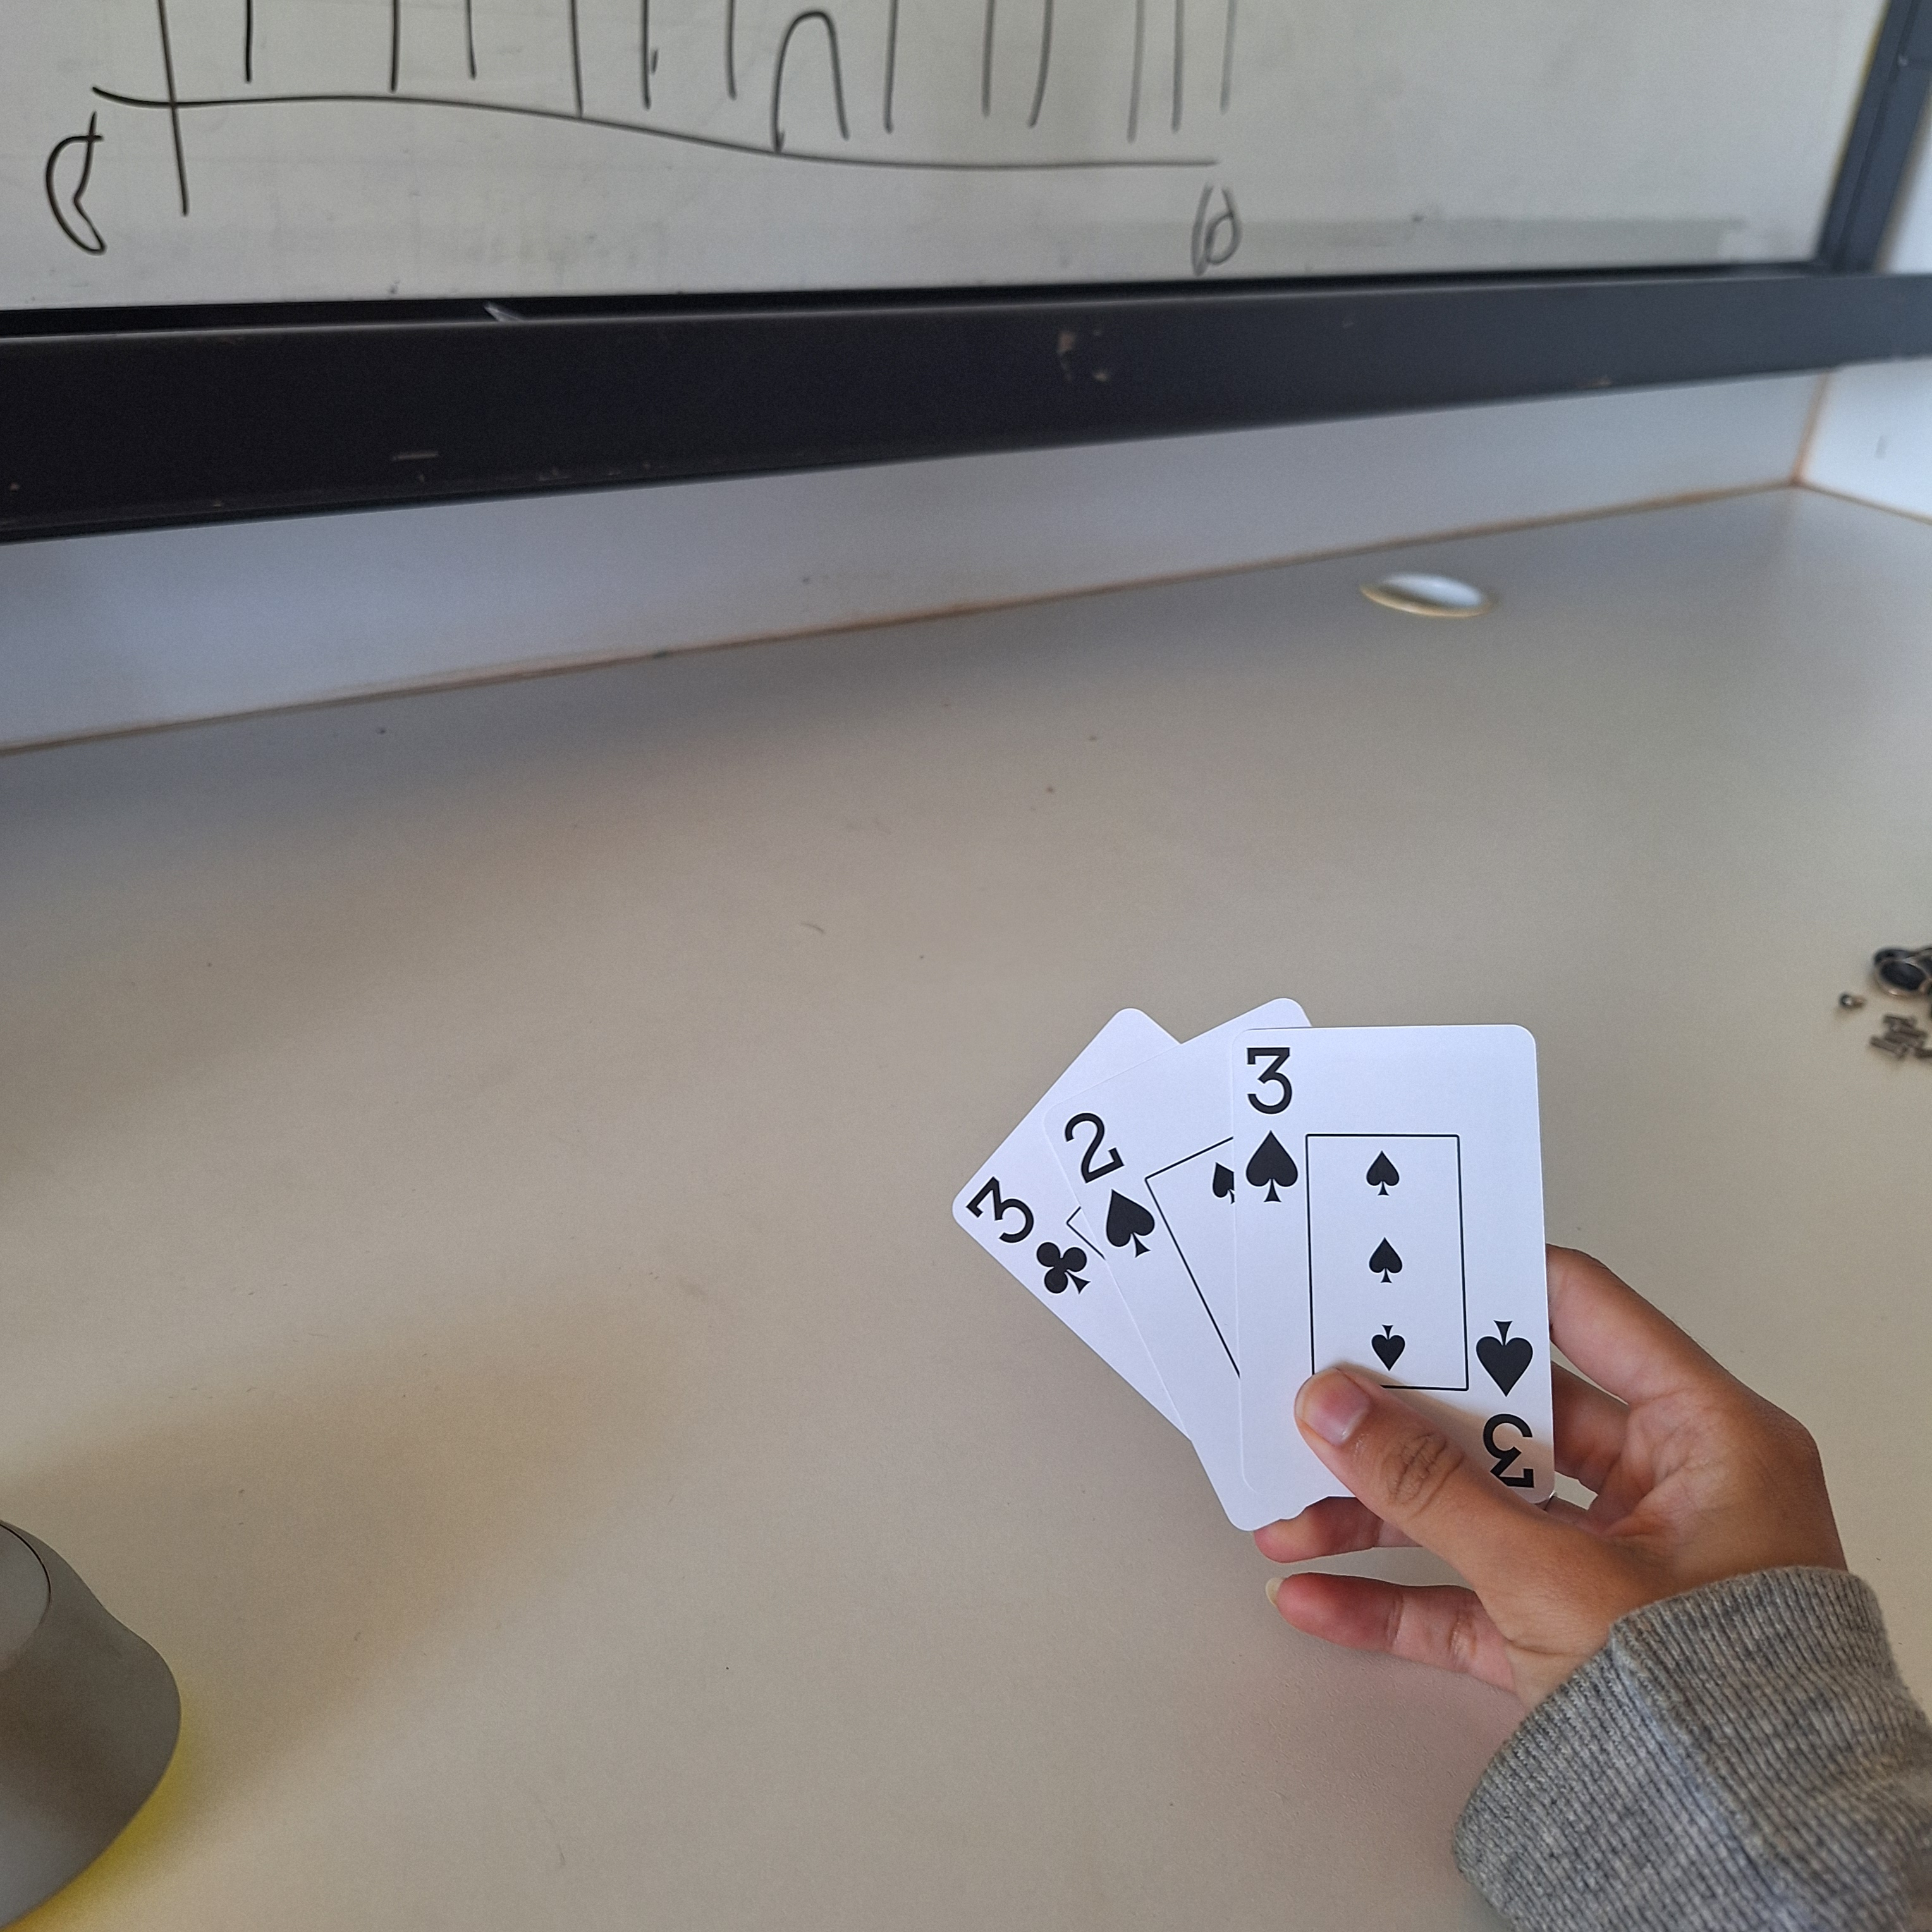2E: (1058, 1102, 1178, 1260)
3E: (1467, 1309, 1545, 1490), (1238, 1035, 1306, 1210)
3P: (961, 1171, 1092, 1300)
